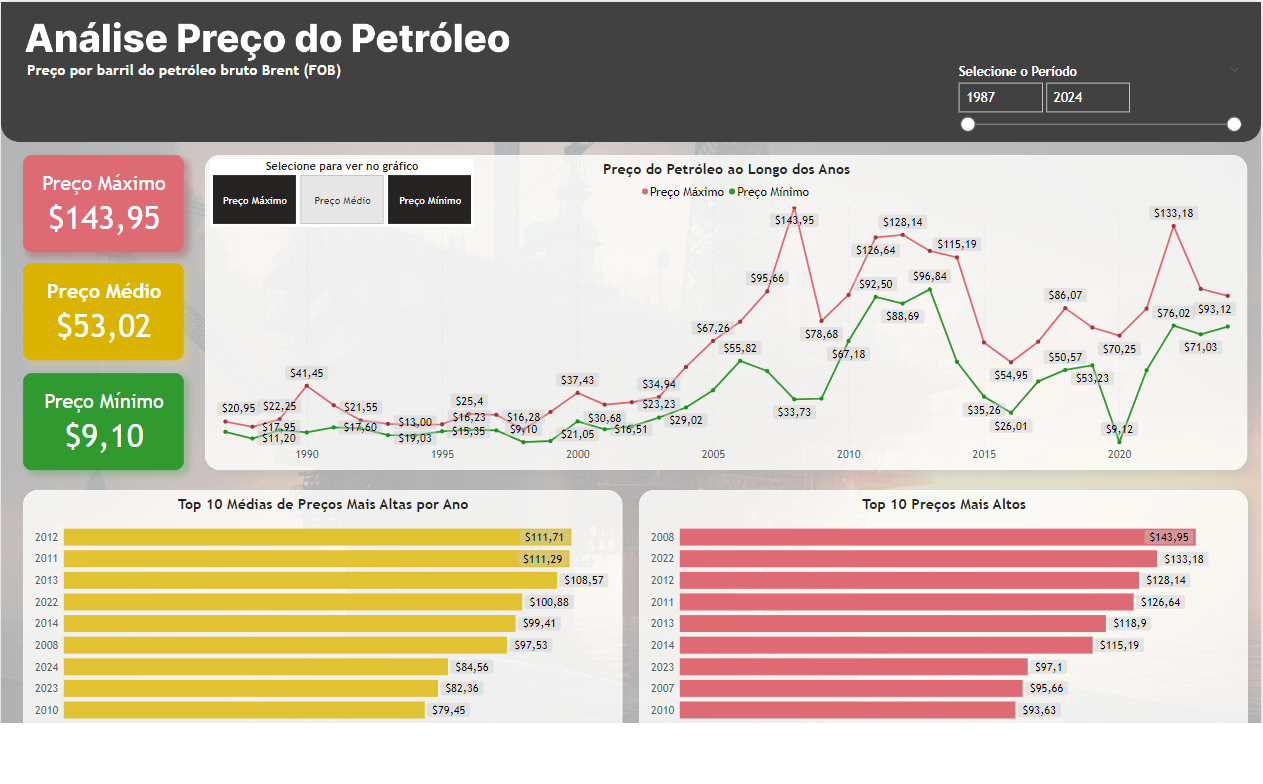

The page's visual inventory and layout, read from the dashboard file:
{"tool":"powerbi","page":{"name":"Dashboard_Preço_Petróleo","canvas":[2100,1300],"ordinal":0},"visuals":[{"type":"lineChart","title":"Preço do Petróleo ao Longo dos Anos","fields":{"Y":["base_preco_petroleo.preco_maximo","base_preco_petroleo.preco_min"],"Category":["base_preco_petroleo.Data.Variation.Hierarquia de datas.Ano","base_preco_petroleo.Data.Variation.Hierarquia de datas.Trimestre","base_preco_petroleo.Data.Variation.Hierarquia de datas.Mês","base_preco_petroleo.Data.Variation.Hierarquia de datas.Dia"]},"box":[340,255,1736.7,525],"z":0},{"type":"slicer","fields":{"Values":["base_preco_petroleo.Data.Variation.Hierarquia de datas.Ano"]},"box":[1583.3,96.7,493.3,146.7],"z":1000},{"type":"cardVisual","fields":{"Data":["base_preco_petroleo.preco_maximo"]},"box":[36.7,255,268.3,161.7],"z":2000},{"type":"clusteredBarChart","title":"Top 10 Médias de Preços Mais Altas por Ano","fields":{"Category":["base_preco_petroleo.Ano"],"Y":["base_preco_petroleo.preco_medio"]},"box":[36.2,813.8,998.8,443.8],"z":3000},{"type":"clusteredBarChart","title":"Top 10 Preços Mais Altos","fields":{"Category":["base_preco_petroleo.Ano"],"Y":["base_preco_petroleo.preco_maximo"]},"box":[1062.5,813.8,1015,443.8],"z":4000},{"type":"cardVisual","fields":{"Data":["base_preco_petroleo.preco_medio"]},"box":[36.7,435,268.3,161.7],"z":5000},{"type":"cardVisual","fields":{"Data":["base_preco_petroleo.preco_min"]},"box":[36.7,618.3,268.3,161.7],"z":6000},{"type":"advancedSlicerVisual","title":"Selecione para ver no gráfico","fields":{"Values":["Parâmetro.Parâmetro"]},"box":[348.3,261.7,440,113.3],"z":7000},{"type":"textbox","box":[37.7,93.4,565.6,55.7],"z":7001}]}

Visuals, with their boxes in screenshot pixels (x1, y1, x2, y2), scaled from the page's 2100x1300 canvas onto the 1263x784 screenshot:
"Preço do Petróleo ao Longo dos Anos" lineChart: {"left": 204, "top": 154, "right": 1249, "bottom": 470}
slicer - base_preco_petroleo.Data.Variation.Hierarquia de datas.Ano: {"left": 952, "top": 58, "right": 1249, "bottom": 147}
cardVisual - base_preco_petroleo.preco_maximo: {"left": 22, "top": 154, "right": 183, "bottom": 251}
"Top 10 Médias de Preços Mais Altas por Ano" clusteredBarChart: {"left": 22, "top": 491, "right": 622, "bottom": 758}
"Top 10 Preços Mais Altos" clusteredBarChart: {"left": 639, "top": 491, "right": 1249, "bottom": 758}
cardVisual - base_preco_petroleo.preco_medio: {"left": 22, "top": 262, "right": 183, "bottom": 360}
cardVisual - base_preco_petroleo.preco_min: {"left": 22, "top": 373, "right": 183, "bottom": 470}
"Selecione para ver no gráfico" advancedSlicerVisual: {"left": 209, "top": 158, "right": 474, "bottom": 226}
textbox: {"left": 23, "top": 56, "right": 363, "bottom": 90}
